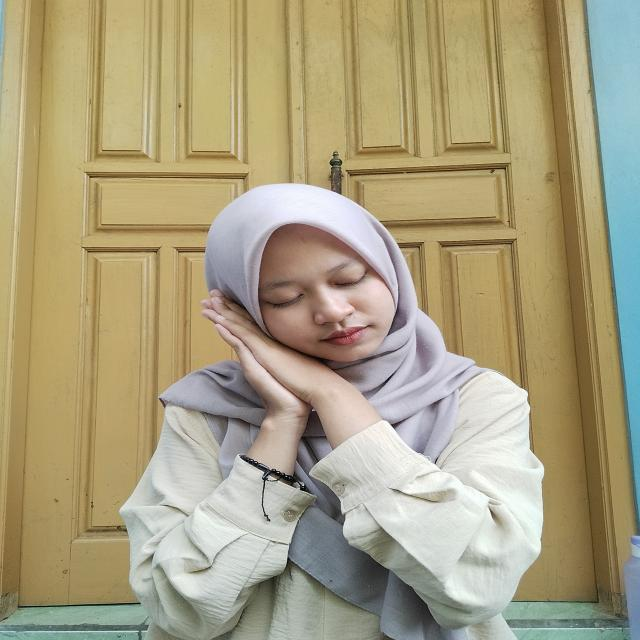tidur: (170, 290, 388, 478)
